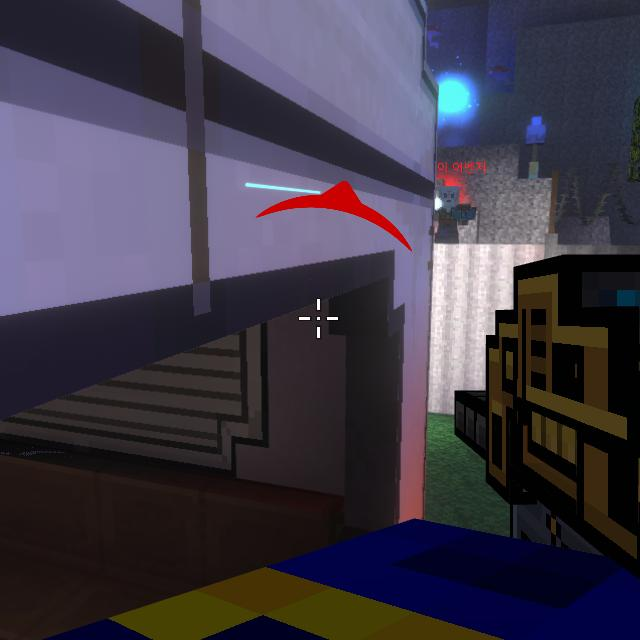Enemy: (434, 186, 460, 244)
